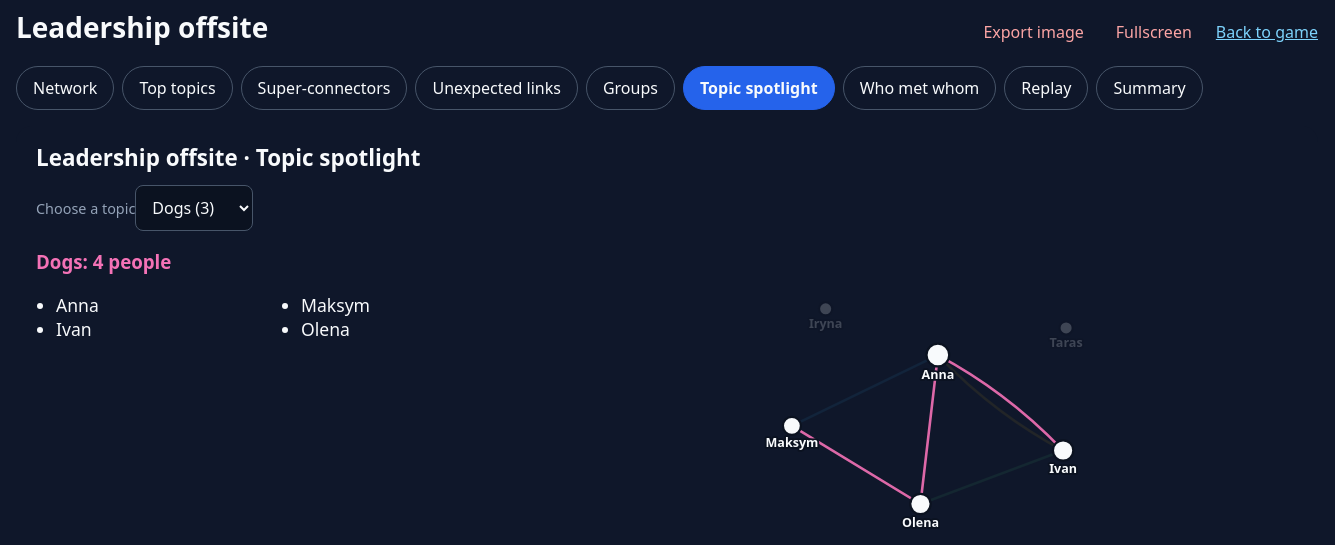
topic spotlight view › lists the people sharing a topic and switches topic
Expected: the heading "Dogs: 4 people" is shown, [36,249,171,274]
Expected: the number of list items is 4, [56,293,99,317]; [56,317,92,341]; [301,293,370,317]; [301,317,350,341]
Select "Chess (1)" in the dropdown labelled "Choose a topic" at (194, 208), box [135,185,253,231]
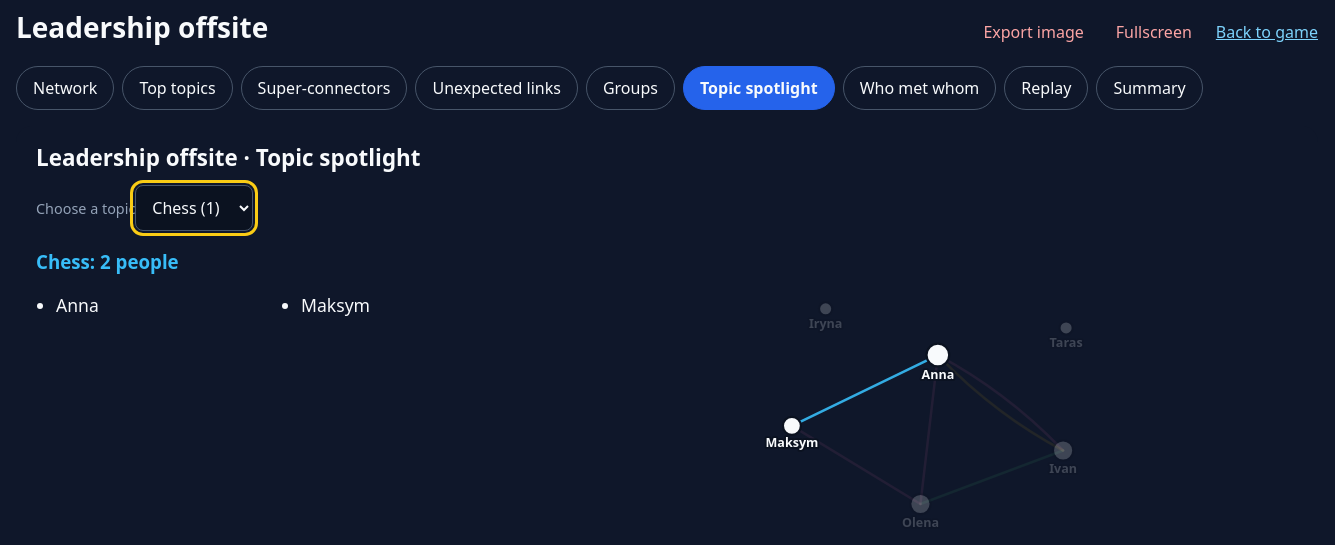
Result: the heading "Chess: 2 people" is shown at [36,249,179,274]
